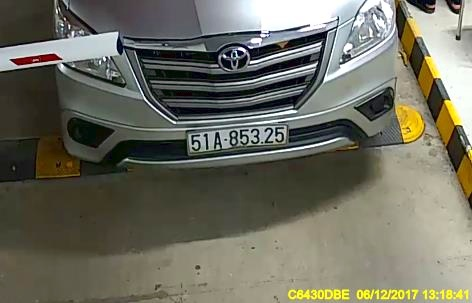plate: (186, 123, 291, 156)
